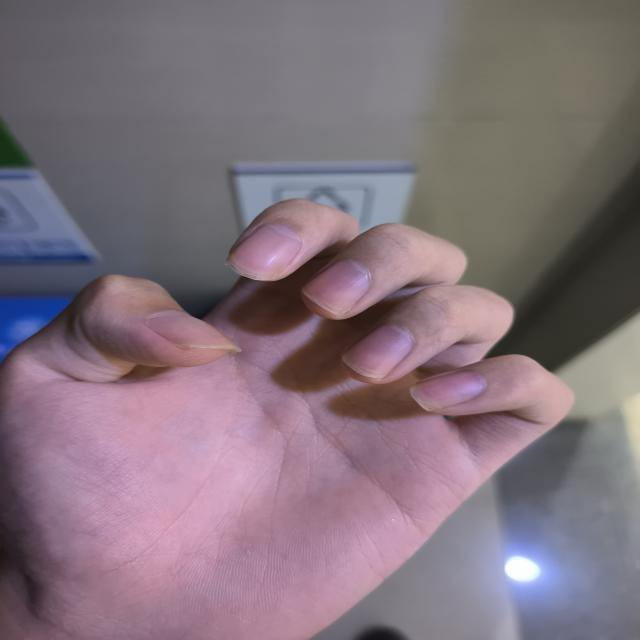Nail: (227, 225, 302, 280), (302, 261, 371, 315), (343, 325, 413, 378), (145, 312, 242, 350), (410, 371, 486, 411)
